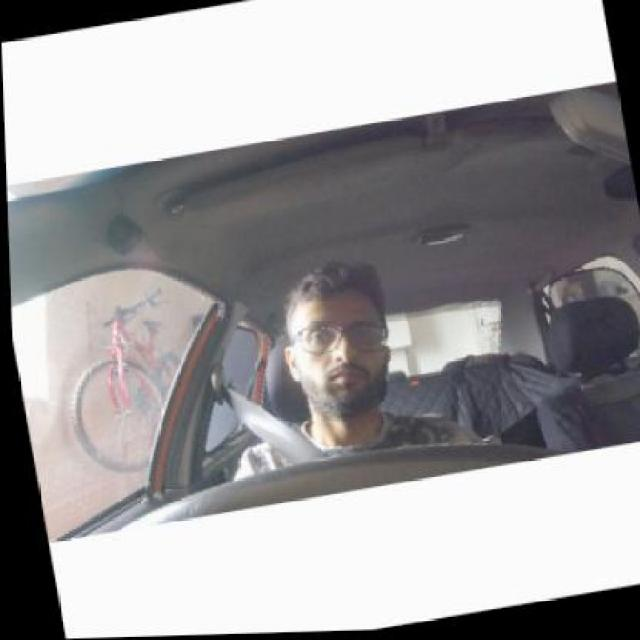person: (280, 254, 403, 423)
